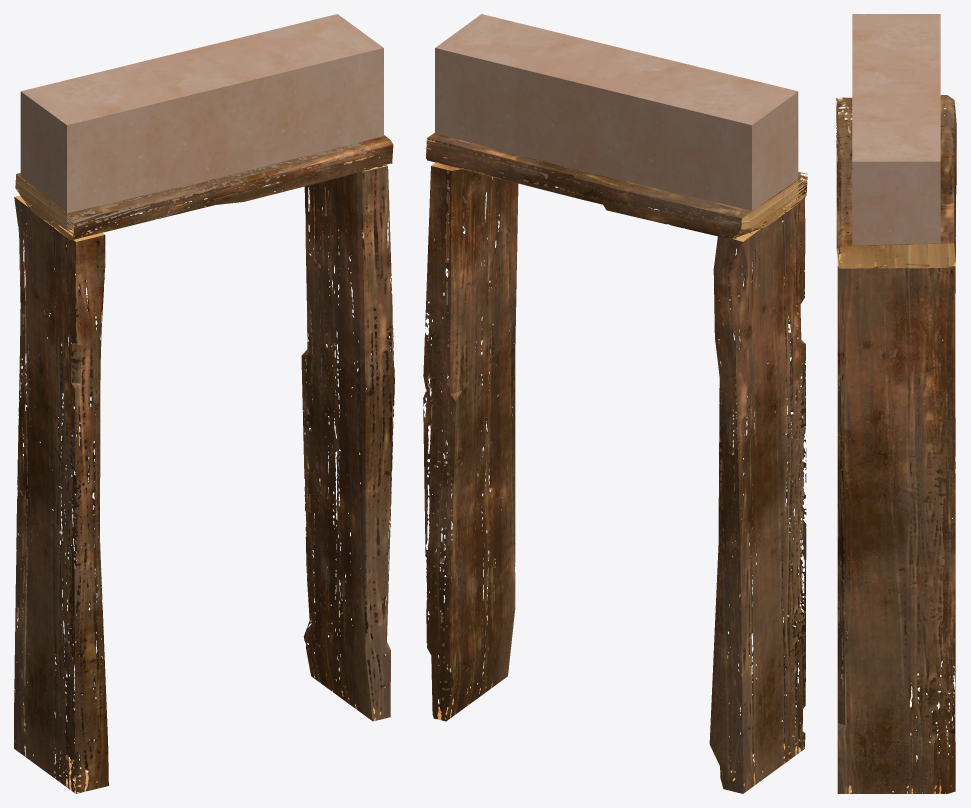
The picture shows the model from 3 angles, left to right: view 1: azimuth 30°, elevation 25°; view 2: azimuth 150°, elevation 25°; view 3: azimuth 270°, elevation 25°; orthographic projection. The views are drawn at different scales.
Visible parts, largest first — view 1: SM_BB_T4_Wall_Doorframe_Narrow_02_LOD0; view 2: SM_BB_T4_Wall_Doorframe_Narrow_02_LOD0; view 3: SM_BB_T4_Wall_Doorframe_Narrow_02_LOD0.
Part boxes in pixels (x1,y1,x2,y2): SM_BB_T4_Wall_Doorframe_Narrow_02_LOD0: (14,14,394,793); SM_BB_T4_Wall_Doorframe_Narrow_02_LOD0: (423,14,807,793); SM_BB_T4_Wall_Doorframe_Narrow_02_LOD0: (836,14,956,793).
Size of the model in its own units: 1.53 by 3 by 0.5176.
Materials: 2 (2 with a texture image).
